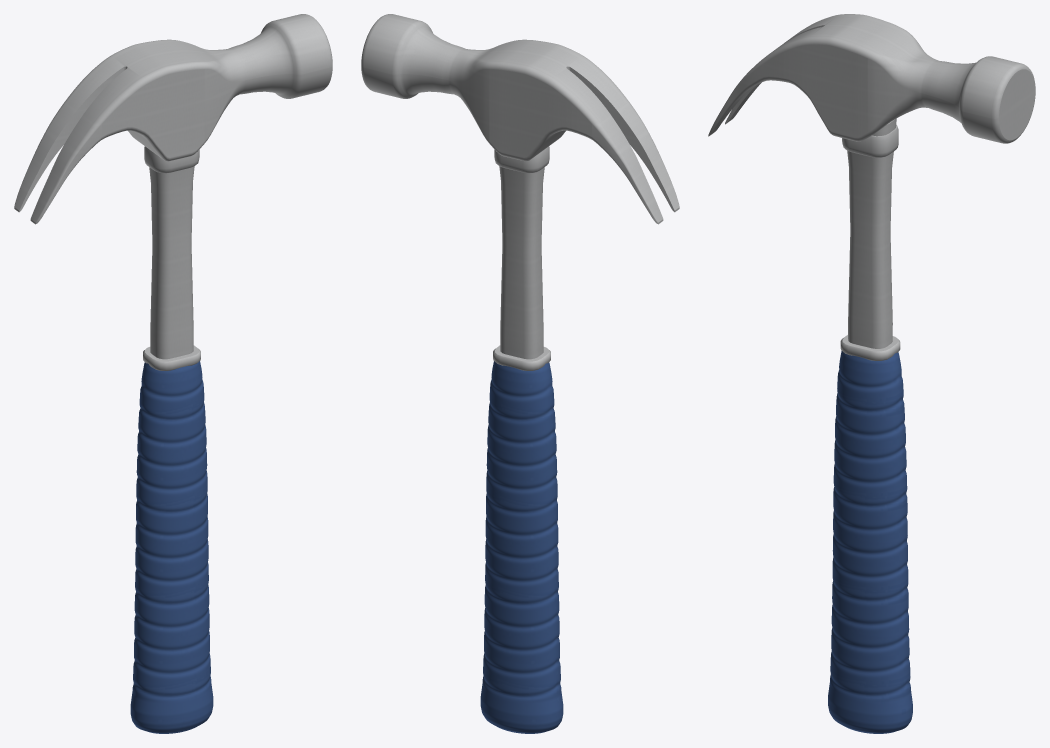
The model's file is hammer.glb.
The picture shows the model from 3 angles, left to right: view 1: azimuth 30°, elevation 25°; view 2: azimuth 150°, elevation 25°; view 3: azimuth 330°, elevation 25°; orthographic projection. The views are drawn at different scales.
Parts seen in each view (by area): view 1: hammer; view 2: hammer; view 3: hammer.
Boxes of the visible parts, box(x1,y1,x2,y2) form: hammer: box(14, 14, 332, 733); hammer: box(361, 14, 679, 733); hammer: box(708, 14, 1035, 733).
Size of the model in its own units: 0.1167 by 0.2587 by 0.0279.
Materials: 4 (4 with a texture image).
